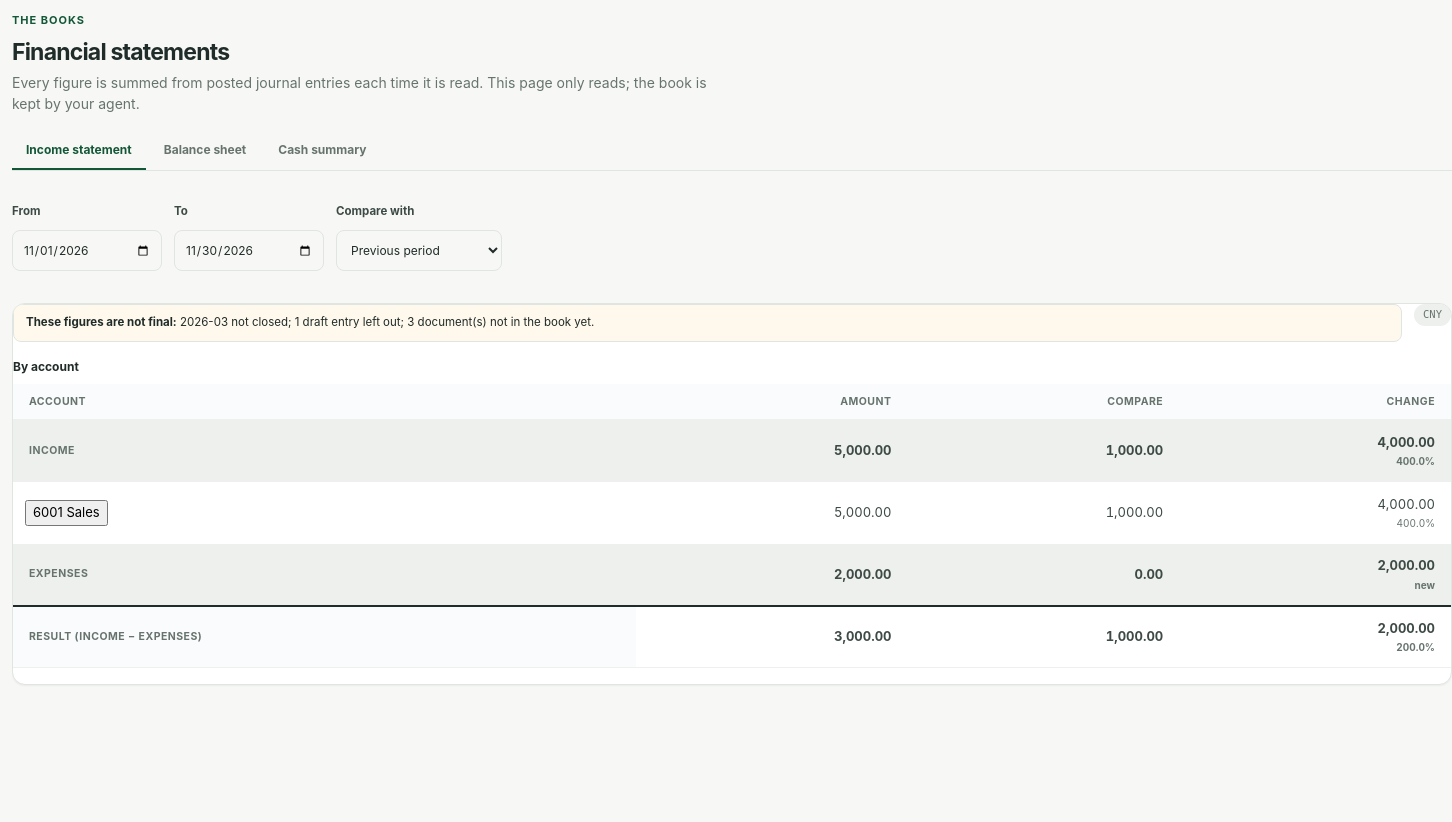
Scenario: StatementsPage › states a balance sheet that does not balance as a defect
This screenshot has width=1452, height=822.
Click the tab "Balance sheet": [205, 151] box [150, 132, 260, 170]
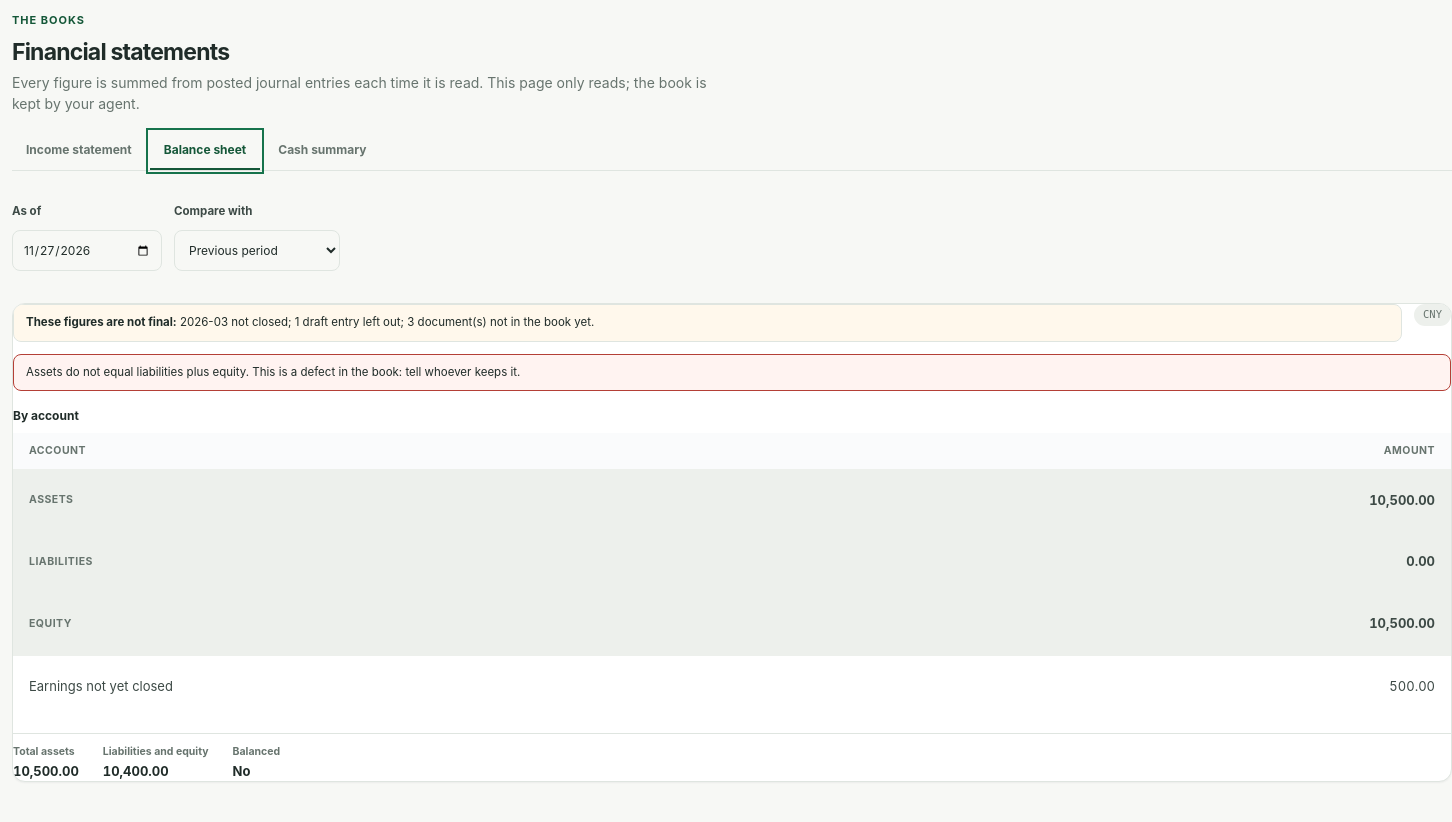
Result: the text "Assets do not equal liabilities plus equity" is shown at [26, 364, 520, 378]
Result: the text "Earnings not yet closed" shows "500.00" at [1389, 678, 1435, 694]
